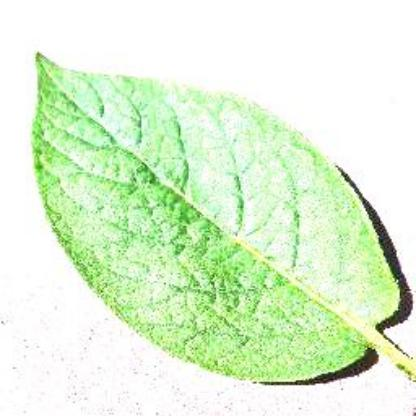Healthy-plant: (29, 38, 415, 390)
